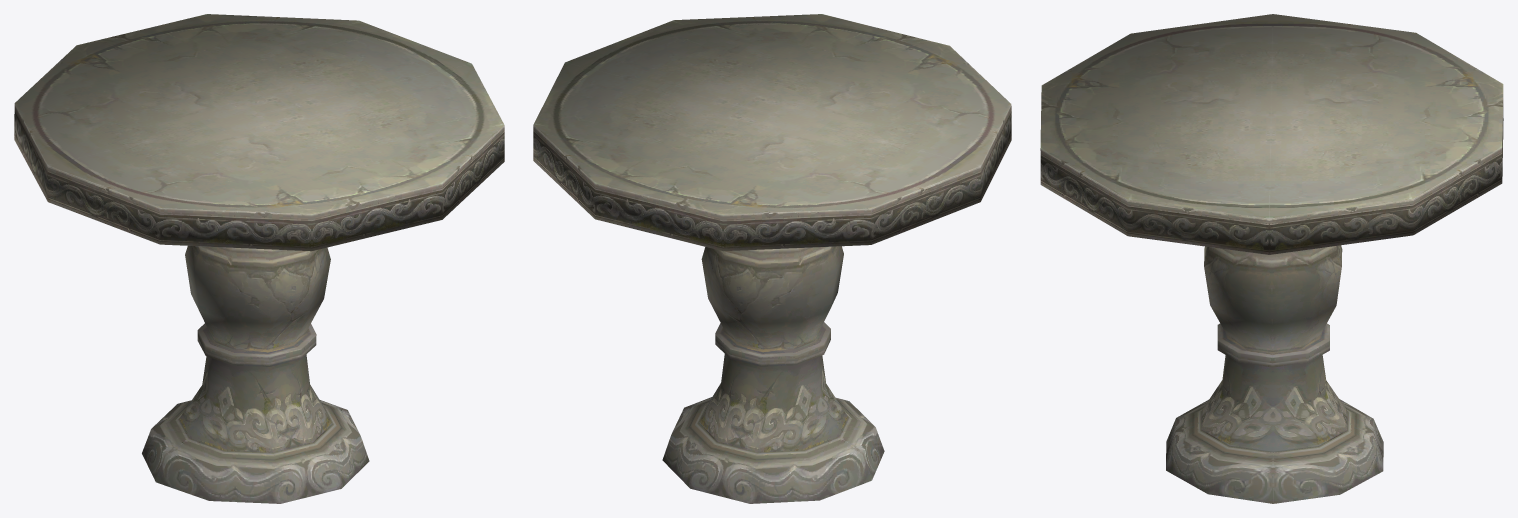
The model's file is Hangzhou_wj_012.FBX.
3 renders of one model, left to right at view 1: azimuth 30°, elevation 25°; view 2: azimuth 150°, elevation 25°; view 3: azimuth 270°, elevation 25°, orthographic.
Visible parts, largest first — view 1: DrawCall_0779; view 2: DrawCall_0779; view 3: DrawCall_0779.
Part boxes in pixels (box(x1,y1,x2,y2)): DrawCall_0779: box(14, 14, 504, 503); DrawCall_0779: box(533, 14, 1011, 503); DrawCall_0779: box(1040, 14, 1503, 503).
Bounding box in the file's own units: 120 × 93.87 × 115.
Materials: 1 (1 with a texture image).
